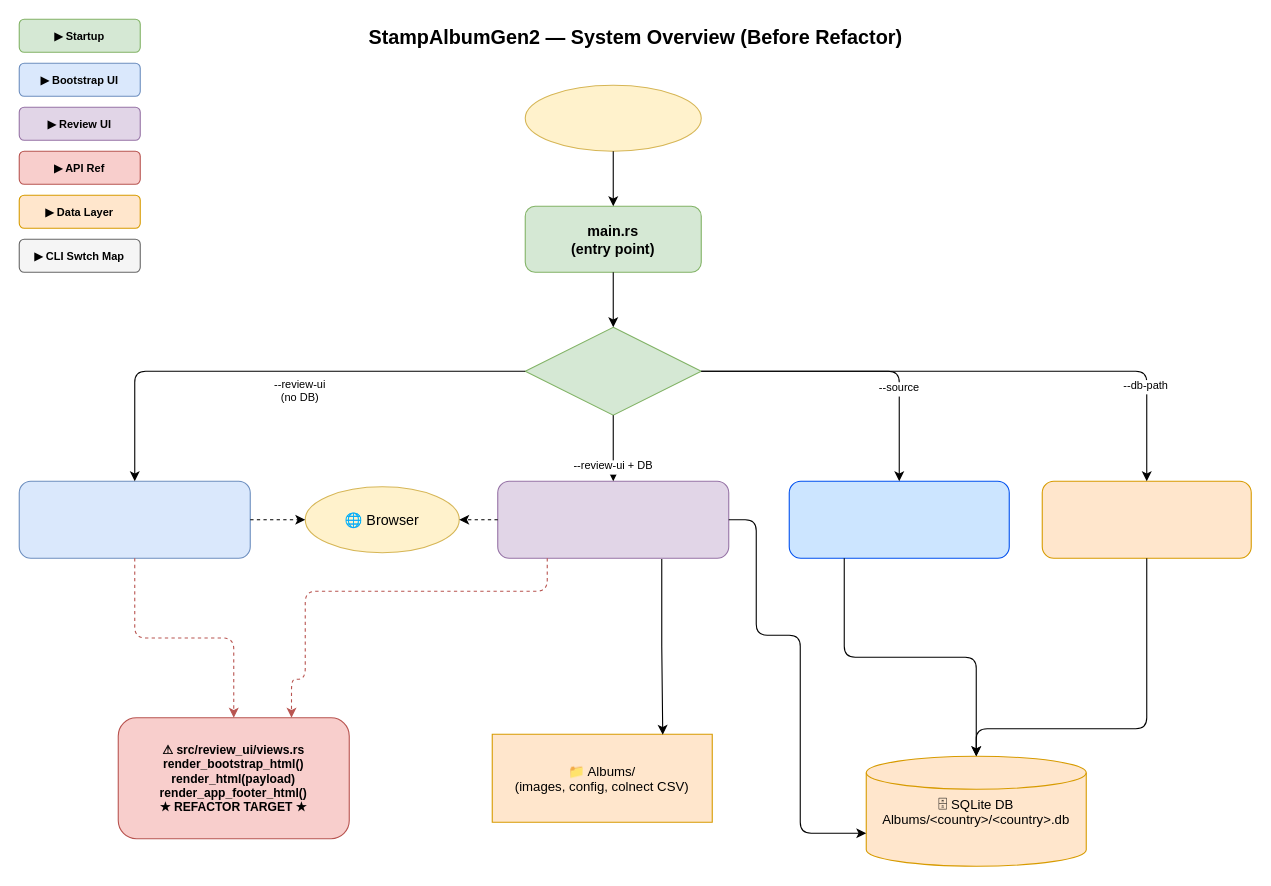
Some shapes in this 1271 by 886 pixel diagram are drawn without their labels. The shapes that lost their labels are listed below. From the top down, each one's centre as x and y in pixels, then its label:
At (x=612, y=117): "👤 User / CLI".
At (x=612, y=370): "Mode Decision".
At (x=134, y=519): "Bootstrap UI run_review_ui_bootstrap() tiny_http server :7878+".
At (x=613, y=519): "Review Compare UI run_review_ui() tiny_http server :7878+".
At (x=898, y=519): "Scraping Mode run_scraping_mode() (StampWorld / Colnect)".
At (x=1146, y=519): "DB Mode run_database_mode() (album HTML gen)".
